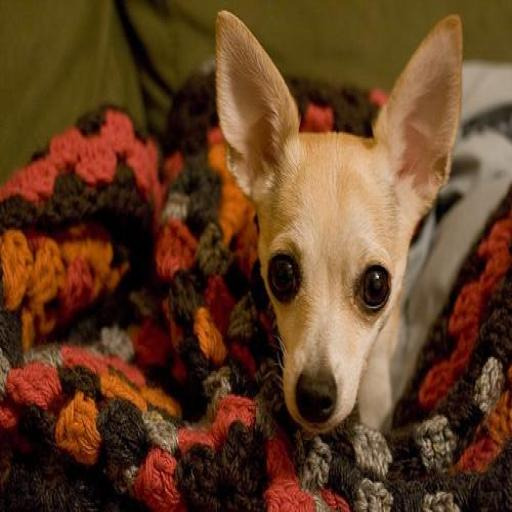dog_face: (214, 8, 468, 427)
